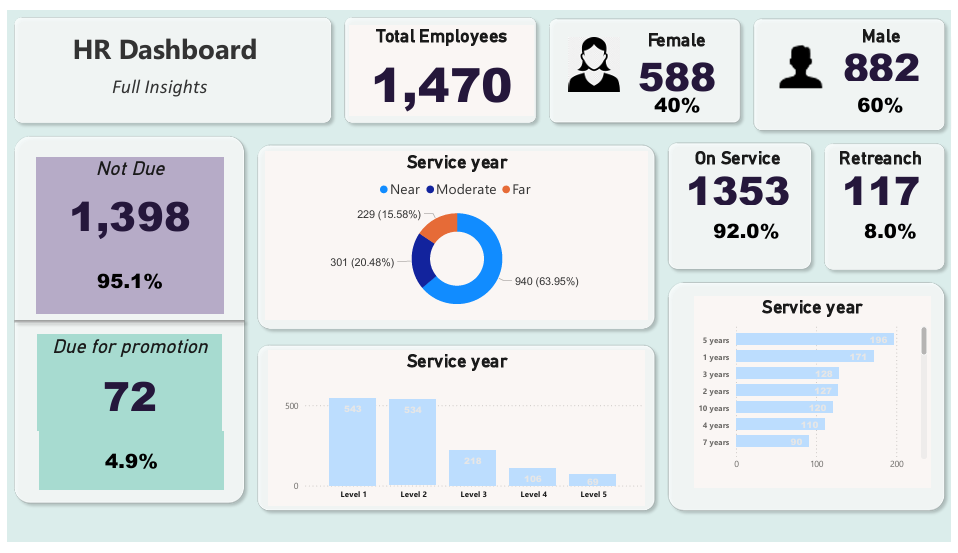

The page's visual inventory and layout, read from the dashboard file:
{"tool":"powerbi","page":{"name":"Page 1","canvas":[1280,720],"ordinal":0},"visuals":[{"type":"shape","box":[0,0,448.3,161.2],"z":0},{"type":"shape","box":[448.3,0,277.3,161.2],"z":1000},{"type":"shape","box":[725.6,2,277.3,159.3],"z":2000},{"type":"shape","box":[1002.9,2,277.3,169.1],"z":3000},{"type":"shape","box":[0,161.2,330.4,515.2],"z":4000},{"type":"shape","box":[330.4,173,556.5,267.4],"z":5000},{"type":"shape","box":[330.4,444.4,556.5,241.9],"z":6000},{"type":"shape","box":[886.6,170.5,212.6,188.5],"z":7000},{"type":"shape","box":[1099.2,171.1,180.9,188.8],"z":8000},{"type":"shape","box":[886.6,359,393.1,326.9],"z":9000},{"type":"textbox","box":[21.6,19.7,383.4,66.9],"z":10000},{"type":"textbox","box":[59,80.6,295,55.1],"z":11000},{"type":"card","title":"Total Employees","fields":{"Values":["Measures (2).Total employee"]},"box":[464.1,19.7,249.7,121.9],"z":12000},{"type":"card","title":"Male","fields":{"Values":["Measures (2).Male"]},"box":[1113,19.7,143.5,80.6],"z":13000},{"type":"card","title":"Male","fields":{"Values":["Measures (2).% Male"]},"box":[1128.7,100.3,110.1,55.1],"z":14000},{"type":"card","title":"Female","fields":{"Values":["Measures (2).Female"]},"box":[835.7,25.6,143.5,92.4],"z":15000},{"type":"card","title":"Male","fields":{"Values":["Measures (2).% Female"]},"box":[853.4,100.3,110.1,55.1],"z":16000},{"type":"card","title":"Male","fields":{"Values":["Measures (2).%Due for promotion"]},"box":[43.3,570.2,249.7,78.7],"z":17000},{"type":"card","title":"Due for promotion","fields":{"Values":["Measures (2).Due for promotion"]},"box":[41.3,438.5,249.7,131.7],"z":18000},{"type":"card","title":"Not Due","fields":{"Values":["Measures (2).not due"]},"box":[39.3,198.6,253.7,123.9],"z":19000},{"type":"card","title":"Male","fields":{"Values":["Measures (2).%not due"]},"box":[39.3,322.5,253.7,88.5],"z":20000},{"type":"shape","box":[0,271.4,330.4,298.9],"z":21000},{"type":"barChart","title":" Service year","fields":{"Category":["HR Analytics Data.Service year"],"Y":["Measures (2).Total employee"]},"box":[930.7,387.1,320.9,258.7],"z":22000},{"type":"columnChart","title":" Service year","fields":{"Category":["HR Analytics Data.Job Levels"],"Y":["Measures (2).Total employee"]},"box":[353.9,460.1,511.3,210.4],"z":23000},{"type":"card","title":"On Service","fields":{"Values":["Measures (2).On Service"]},"box":[904.5,184.8,171.1,82.6],"z":24000},{"type":"card","title":"Male","fields":{"Values":["Measures (2).%Will be retreanched"]},"box":[1142.5,271.4,110.1,55.1],"z":25000},{"type":"card","title":"Retreanch","fields":{"Values":["Measures (2).Will be retreanched"]},"box":[1099.2,184.8,171.1,82.6],"z":26000},{"type":"card","title":"Male","fields":{"Values":["Measures (2).%On Service"]},"box":[949.8,275.3,104.2,47.2],"z":27000},{"type":"donutChart","title":" Service year","fields":{"Category":["HR Analytics Data.Distance status"],"Y":["Measures (2).Total employee"]},"box":[350,190.7,519.1,228.1],"z":28000},{"type":"image","box":[1026.4,27.5,96.4,90.5],"z":29000},{"type":"image","box":[755.1,31.5,80.6,82.6],"z":30000}]}

Visuals, with their boxes in screenshot pixels (x1, y1, x2, y2), scaled from the page's 1280x720 canvas onto the 958x553 screenshot:
shape: 0:0:336:124
shape: 336:0:543:124
shape: 543:2:751:124
shape: 751:2:957:131
shape: 0:124:247:520
shape: 247:133:664:338
shape: 247:341:664:527
shape: 664:131:823:276
shape: 823:131:957:276
shape: 664:276:957:527
textbox: 16:15:303:67
textbox: 44:62:265:104
"Total Employees" card: 347:15:534:109
"Male" card: 833:15:940:77
"Male" card: 845:77:927:119
"Female" card: 625:20:733:91
"Male" card: 639:77:721:119
"Male" card: 32:438:219:498
"Due for promotion" card: 31:337:218:438
"Not Due" card: 29:153:219:248
"Male" card: 29:248:219:316
shape: 0:208:247:438
" Service year" barChart: 697:297:937:496
" Service year" columnChart: 265:353:648:515
"On Service" card: 677:142:805:205
"Male" card: 855:208:937:251
"Retreanch" card: 823:142:951:205
"Male" card: 711:211:789:248
" Service year" donutChart: 262:146:650:322
image: 768:21:840:91
image: 565:24:625:88
